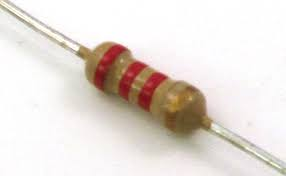resistor: (66, 35, 221, 141)
